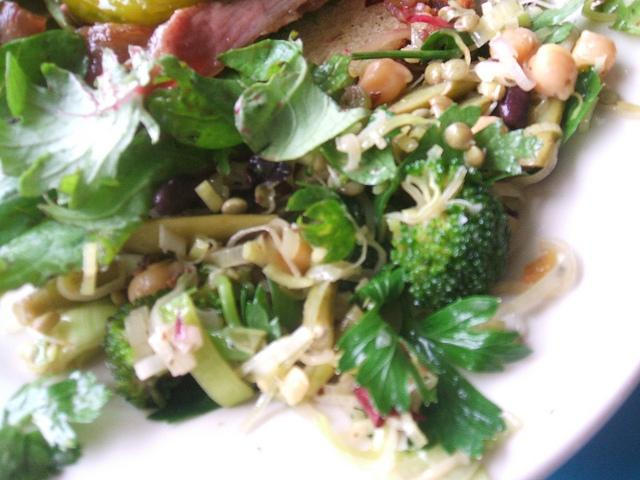broccoli: (386, 186, 514, 311), (102, 288, 182, 410)
